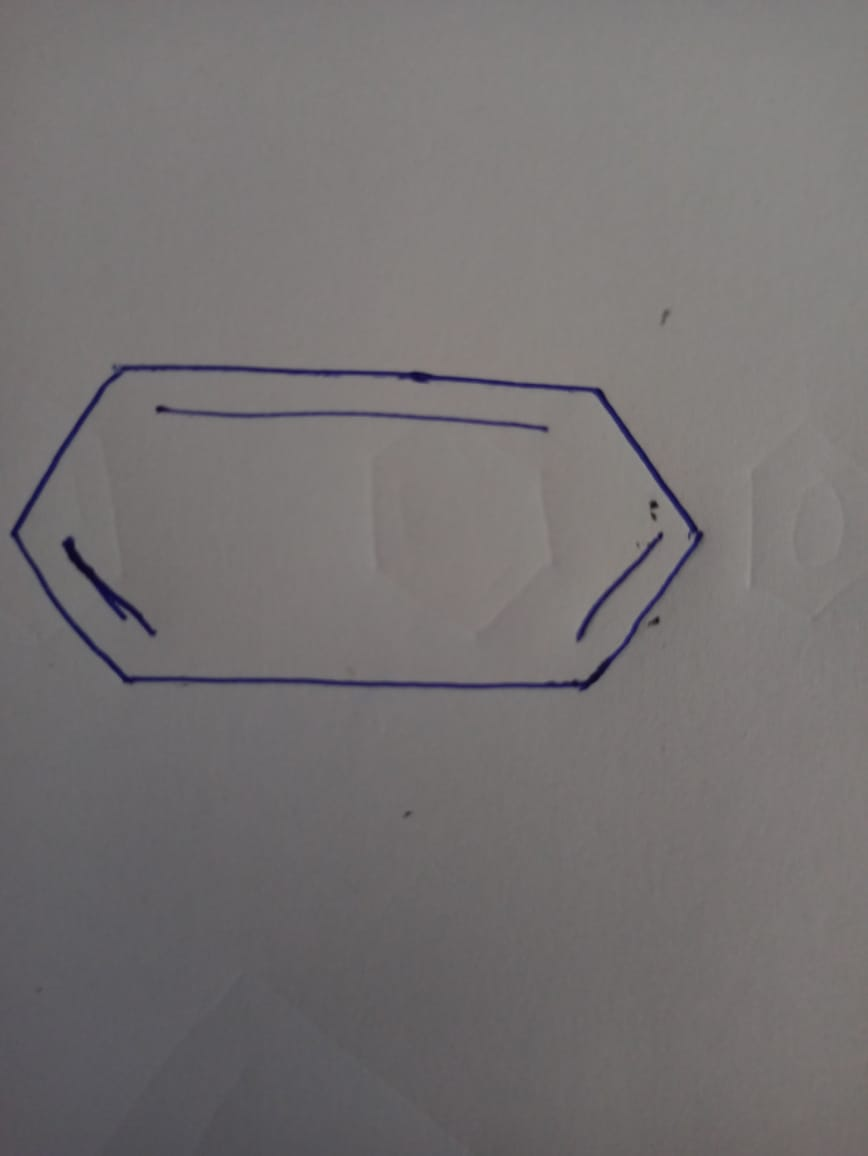shape_mask: (3, 319, 731, 717)
